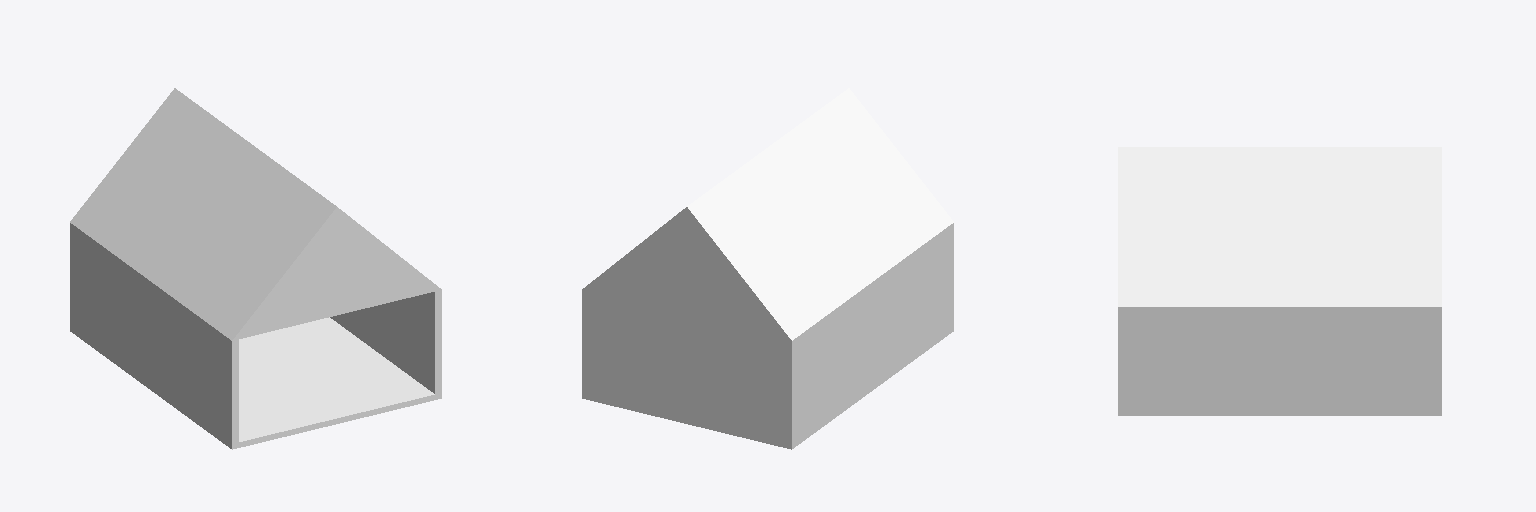
The picture shows the model from 3 angles: view 1: azimuth 30°, elevation 25°; view 2: azimuth 150°, elevation 25°; view 3: azimuth 270°, elevation 25°; orthographic projection.
Visible parts, largest first — view 1: object_3, object_7, object_4, object_1, object_5; view 2: object_3, object_6, object_7, object_2, object_4; view 3: object_3, object_5, object_4, object_6.
Boxes of the visible parts, x1,y1,x2,y2 form: object_3: [70, 88, 441, 340]; object_7: [74, 226, 238, 443]; object_4: [70, 317, 441, 449]; object_1: [240, 214, 434, 338]; object_5: [330, 290, 441, 393]; object_3: [582, 88, 953, 340]; object_6: [582, 290, 795, 443]; object_7: [796, 223, 953, 440]; object_2: [589, 214, 783, 338]; object_4: [582, 326, 953, 449]; object_3: [1118, 147, 1441, 306]; object_5: [1118, 307, 1433, 409]; object_4: [1118, 410, 1441, 415]; object_6: [1434, 307, 1441, 409].
Bounding box in the file's own units: 7.97 × 7.88 × 10.66.